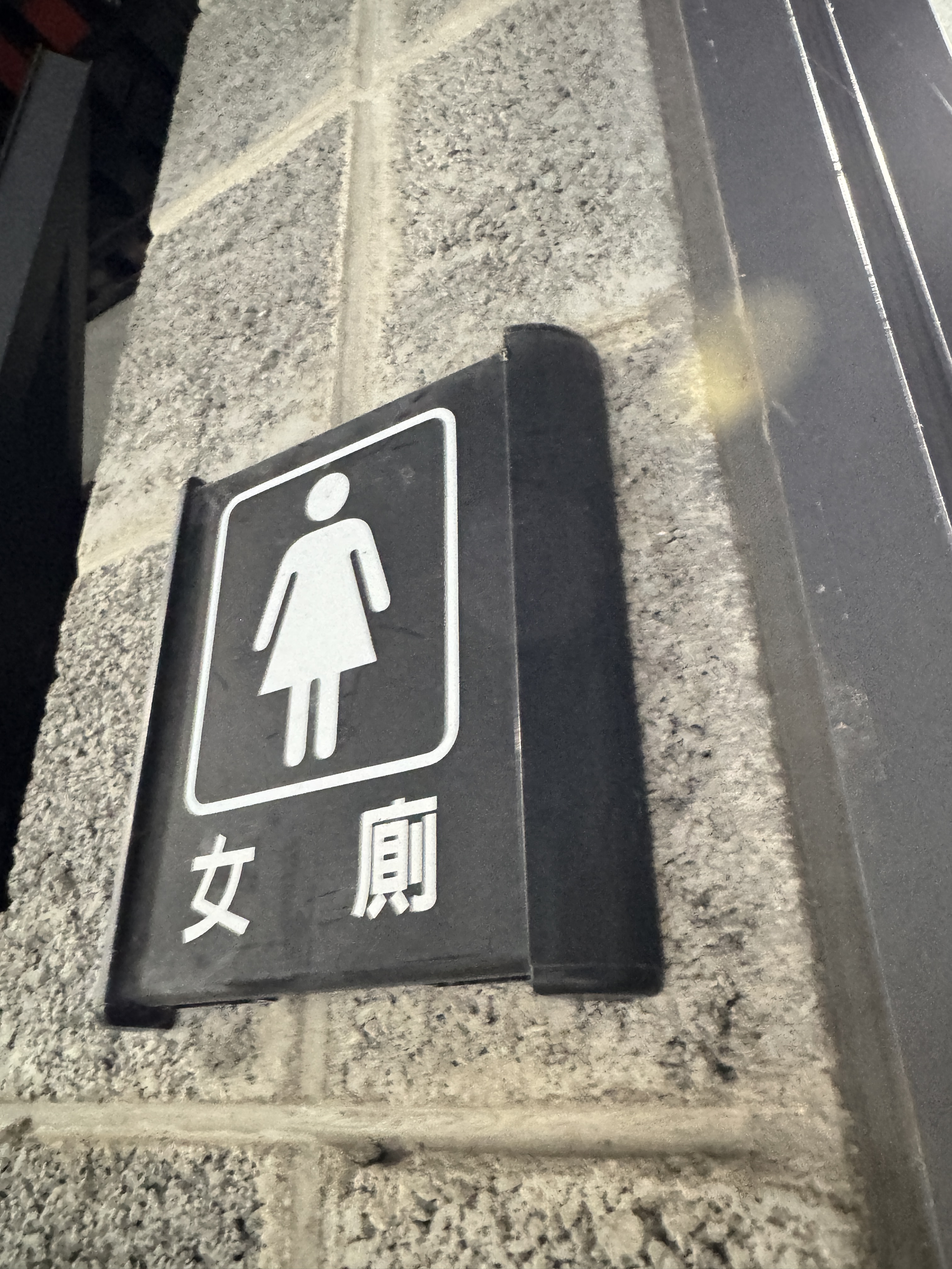toilet_sign: (85, 322, 675, 1026), (87, 355, 675, 1022)
